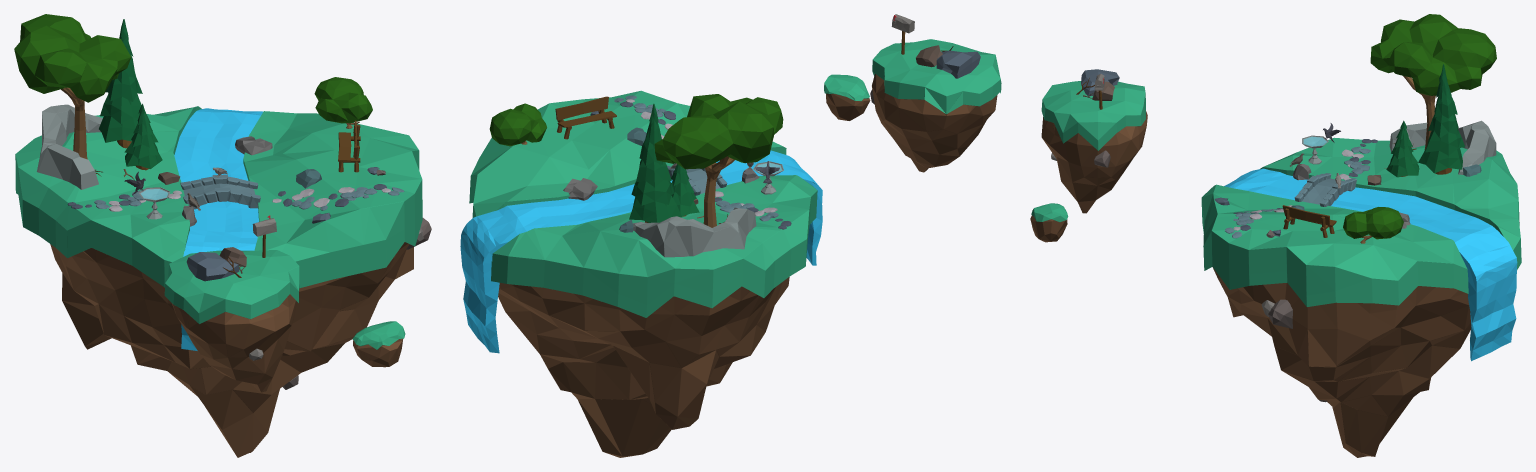
Rendered from PigeonPark_Scene_5- 27-2_embedded_unitless.gltf.
3 views of the same model, side by side, from view 1: azimuth 30°, elevation 25°; view 2: azimuth 150°, elevation 25°; view 3: azimuth 270°, elevation 25° (orthographic). The views are drawn at different scales.
Parts seen in each view (by area): view 1: Gras Insel, Insel, Fluss, Tree_1, Großer Fels, Sphere, Ruine, Tree_2, Bush, Steinweg, Bridge, Tree_3 (+6 smaller); view 2: Gras Insel, Insel, Fluss, Tree_1, Sphere, Großer Fels, Ruine, Tree_2, Bush, Steinweg, Bank, Cube.008 (+5 smaller); view 3: Gras Insel, Insel, Fluss, Tree_1, Großer Fels, Sphere, Tree_2, Ruine, Bush, Steinweg, Bridge, Tree_3 (+5 smaller).
Part boxes in pixels (bbox=[...]): Gras Insel: bbox=[15, 106, 422, 288]; Insel: bbox=[50, 242, 413, 457]; Fluss: bbox=[174, 108, 262, 350]; Tree_1: bbox=[14, 14, 131, 159]; Großer Fels: bbox=[164, 250, 299, 323]; Sphere: bbox=[172, 294, 296, 392]; Ruine: bbox=[37, 104, 102, 189]; Tree_2: bbox=[99, 19, 152, 148]; Bush: bbox=[314, 77, 372, 128]; Steinweg: bbox=[67, 184, 404, 211]; Bridge: bbox=[180, 174, 260, 209]; Tree_3: bbox=[124, 103, 162, 170]; Gras Insel: bbox=[469, 90, 817, 317]; Insel: bbox=[498, 277, 789, 457]; Fluss: bbox=[460, 150, 822, 353]; Tree_1: bbox=[654, 94, 783, 227]; Sphere: bbox=[872, 74, 997, 172]; Großer Fels: bbox=[872, 39, 1001, 114]; Ruine: bbox=[632, 207, 756, 257]; Tree_2: bbox=[629, 103, 681, 222]; Bush: bbox=[489, 103, 546, 146]; Steinweg: bbox=[614, 95, 791, 229]; Bank: bbox=[555, 96, 616, 139]; Cube.008: bbox=[936, 50, 980, 78]; Gras Insel: bbox=[1201, 137, 1521, 306]; Insel: bbox=[1213, 268, 1471, 457]; Fluss: bbox=[1224, 168, 1517, 361]; Tree_1: bbox=[1370, 14, 1496, 149]; Großer Fels: bbox=[1041, 81, 1145, 150]; Sphere: bbox=[1041, 111, 1147, 213]; Tree_2: bbox=[1418, 64, 1464, 174]; Ruine: bbox=[1389, 120, 1496, 174]; Bush: bbox=[1343, 207, 1403, 243]; Steinweg: bbox=[1225, 139, 1377, 238]; Bridge: bbox=[1294, 173, 1356, 206]; Tree_3: bbox=[1386, 120, 1419, 177].
Size of the model in its own units: 1.1 by 1.21 by 1.45.
